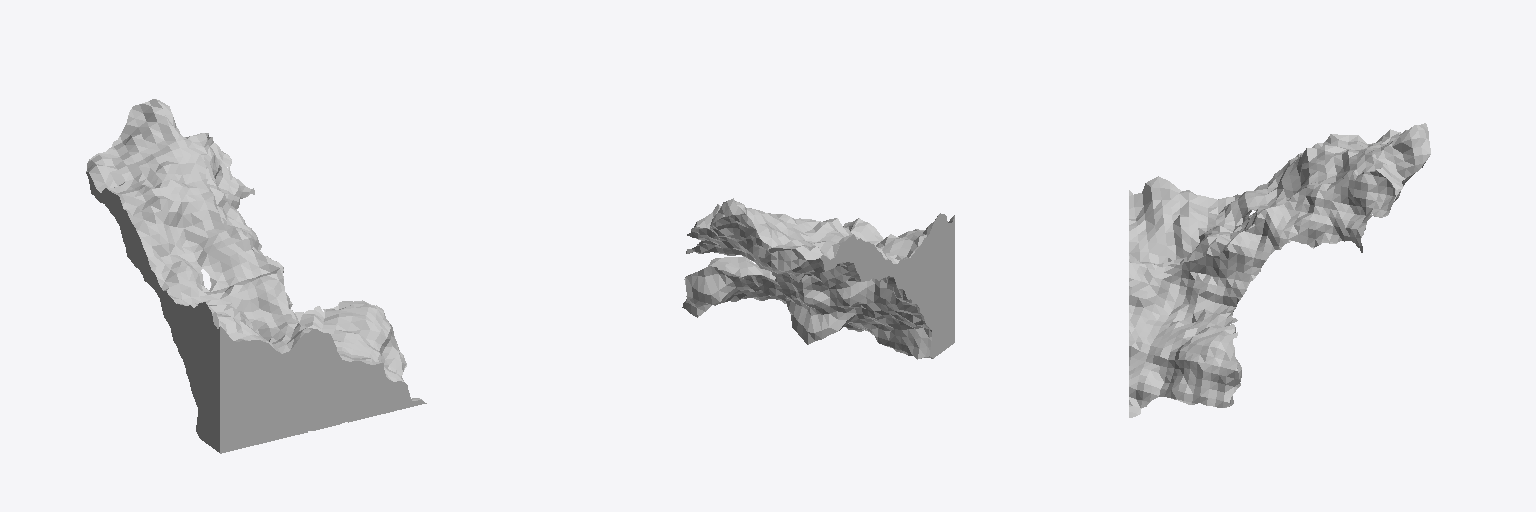
Rendered from Cube_shard.015.obj.
The picture shows the model from 3 angles: view 1: azimuth 30°, elevation 25°; view 2: azimuth 150°, elevation 25°; view 3: azimuth 270°, elevation 25°; orthographic projection.
Visible parts, largest first — view 1: Cube_shard.015_Cube_shard.155; view 2: Cube_shard.015_Cube_shard.155; view 3: Cube_shard.015_Cube_shard.155.
Boxes of the visible parts, x1=… form: Cube_shard.015_Cube_shard.155: x1=86, y1=99, x2=426, y2=453; Cube_shard.015_Cube_shard.155: x1=682, y1=198, x2=954, y2=359; Cube_shard.015_Cube_shard.155: x1=1129, y1=123, x2=1430, y2=417.
Bounding box in the file's own units: 1.23 × 1.23 × 1.45.